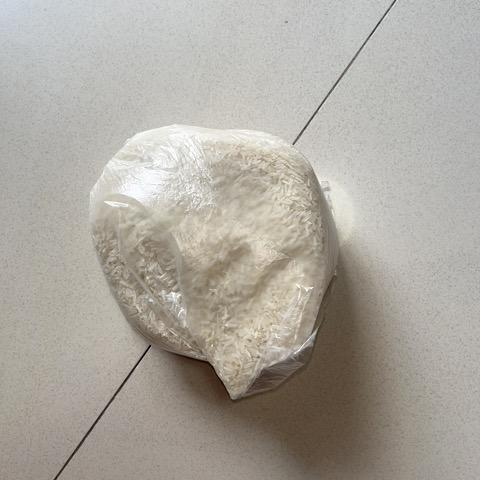rice: (86, 122, 356, 408)
